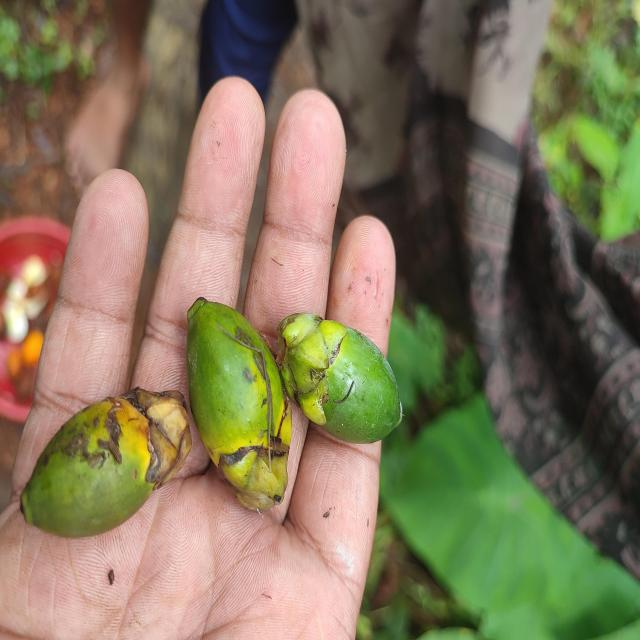damaged: (20, 388, 192, 539), (185, 299, 292, 515), (281, 316, 402, 446)
